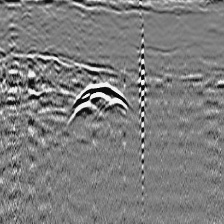cavities: (66, 82, 132, 124)
